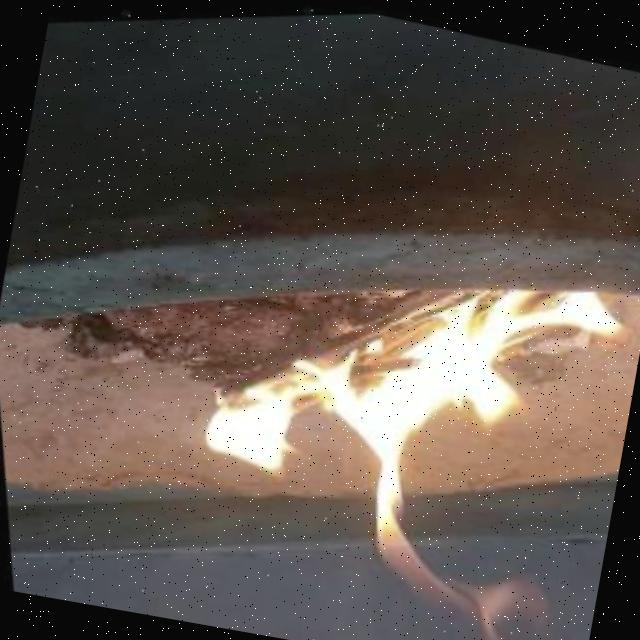fire: (166, 229, 606, 640)
